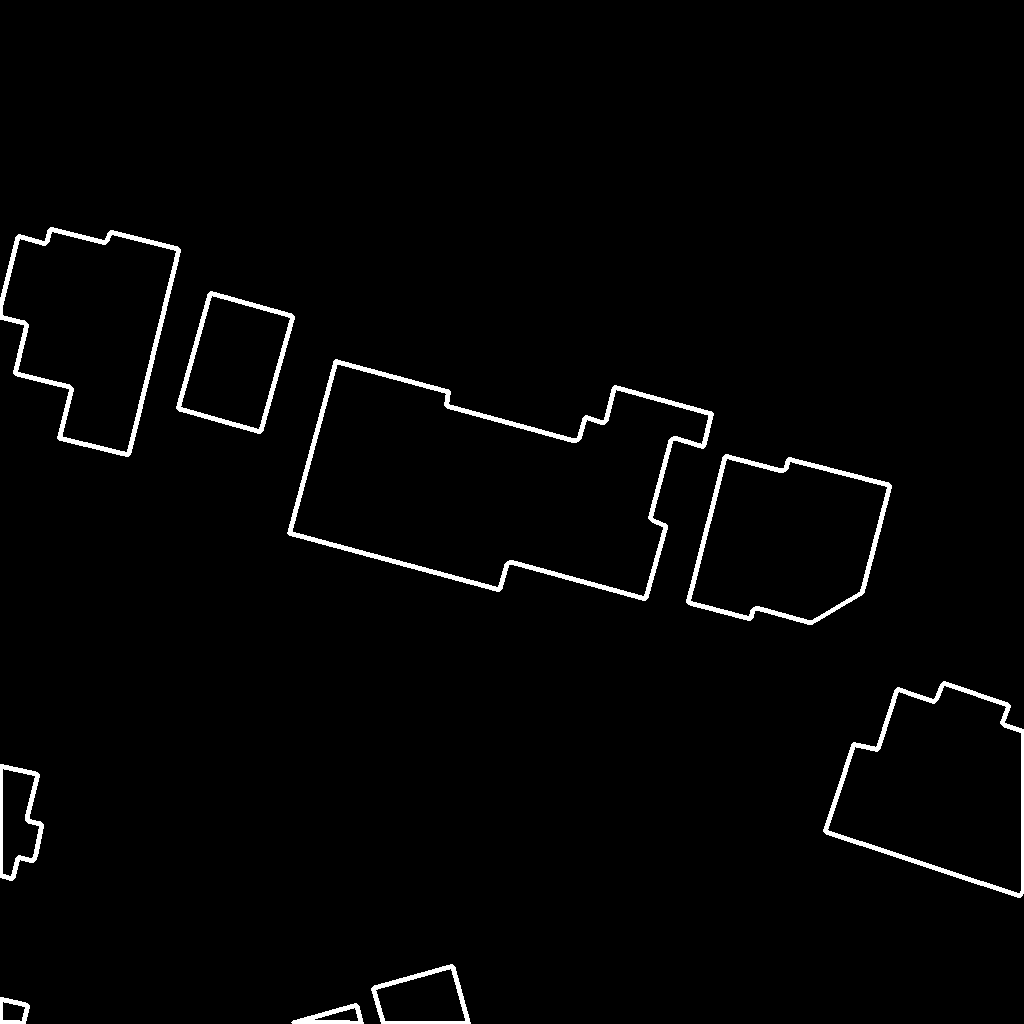building: (289, 361, 713, 600), (825, 683, 1024, 897), (0, 229, 180, 456), (688, 456, 891, 624), (178, 293, 294, 433), (292, 966, 470, 1024), (0, 766, 43, 880), (0, 999, 29, 1024)
